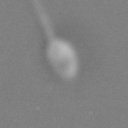normal: (24, 1, 57, 39)
